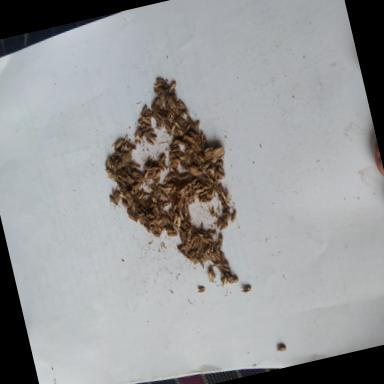pbw: (186, 232, 202, 246), (127, 210, 140, 226), (174, 213, 186, 230), (189, 164, 203, 178), (212, 146, 225, 160), (172, 137, 186, 149), (176, 245, 188, 259), (228, 210, 239, 225), (195, 240, 206, 255), (164, 214, 174, 230), (108, 192, 120, 205), (201, 242, 212, 256), (178, 230, 188, 245), (189, 130, 201, 142), (214, 242, 223, 258), (204, 252, 216, 264), (204, 147, 214, 161), (182, 202, 190, 219), (170, 211, 179, 226), (207, 266, 216, 281), (207, 189, 218, 201), (105, 167, 116, 179), (167, 80, 178, 92), (142, 169, 152, 182), (200, 232, 210, 245), (222, 190, 230, 206), (172, 166, 181, 180), (216, 260, 230, 269), (167, 96, 176, 110), (215, 169, 226, 180), (212, 249, 220, 264), (146, 216, 158, 226), (148, 163, 160, 173), (116, 176, 126, 188), (240, 286, 252, 296), (216, 222, 228, 232), (186, 134, 196, 146), (174, 197, 184, 209), (217, 267, 226, 280), (198, 256, 206, 270), (206, 270, 214, 284), (160, 190, 170, 201), (132, 130, 143, 140), (168, 184, 178, 195), (188, 249, 198, 260), (198, 174, 208, 185), (120, 199, 130, 210), (142, 115, 152, 126), (188, 240, 200, 249), (227, 276, 240, 284), (143, 222, 151, 235), (166, 230, 179, 238), (179, 220, 189, 230), (162, 200, 172, 210), (136, 190, 146, 200), (222, 265, 232, 275), (220, 202, 230, 212), (150, 195, 159, 206), (207, 229, 218, 238), (186, 195, 195, 206), (213, 160, 224, 169), (188, 116, 196, 128), (220, 276, 228, 288), (178, 174, 190, 182), (130, 202, 138, 214), (130, 184, 142, 192), (218, 235, 226, 247), (154, 203, 161, 216), (115, 148, 124, 158), (186, 148, 195, 158), (121, 142, 130, 152), (118, 190, 127, 200), (155, 120, 164, 130), (169, 124, 178, 134), (130, 161, 140, 170), (113, 141, 124, 149), (157, 216, 165, 227), (126, 174, 134, 185), (177, 154, 188, 162), (146, 137, 154, 148), (182, 187, 190, 198), (147, 186, 155, 197), (207, 172, 214, 184), (194, 140, 201, 152), (168, 157, 180, 164), (106, 158, 113, 170), (201, 136, 208, 148), (140, 205, 149, 214), (216, 183, 225, 192), (125, 191, 134, 200), (202, 161, 212, 169), (179, 100, 187, 110), (164, 111, 172, 121), (162, 185, 172, 193), (162, 176, 172, 184), (156, 76, 166, 84), (140, 104, 148, 114), (198, 154, 206, 164), (158, 153, 166, 162), (158, 92, 167, 100), (154, 178, 163, 186), (131, 170, 140, 178), (180, 160, 186, 172), (191, 176, 200, 184), (116, 160, 124, 169), (184, 159, 190, 171), (169, 110, 177, 119), (186, 185, 194, 194), (154, 170, 161, 180), (161, 162, 168, 172), (179, 185, 189, 192), (210, 168, 216, 179), (193, 120, 201, 128), (168, 171, 176, 179), (172, 192, 180, 200), (154, 232, 162, 240), (210, 156, 218, 164), (154, 98, 161, 107), (190, 144, 197, 153), (144, 214, 151, 223), (174, 121, 181, 130), (178, 128, 184, 138), (152, 184, 158, 194), (158, 100, 164, 110), (118, 168, 124, 178), (194, 188, 204, 194), (194, 182, 202, 189), (207, 236, 214, 244), (149, 128, 156, 136), (172, 162, 180, 169), (184, 125, 192, 132), (158, 86, 166, 93), (188, 157, 194, 166), (162, 81, 168, 90), (199, 190, 208, 196), (152, 113, 158, 122), (143, 131, 150, 138), (168, 164, 174, 172), (153, 90, 161, 96), (137, 120, 145, 126), (146, 209, 154, 215), (214, 174, 219, 183), (147, 113, 153, 120), (201, 167, 208, 173), (145, 110, 152, 116), (151, 135, 158, 141), (124, 136, 130, 142), (142, 126, 148, 132), (157, 81, 163, 87), (172, 204, 178, 210), (201, 132, 205, 141), (112, 156, 116, 164), (194, 156, 198, 164), (204, 184, 209, 190), (164, 88, 169, 94), (138, 207, 142, 214), (154, 84, 161, 88)
